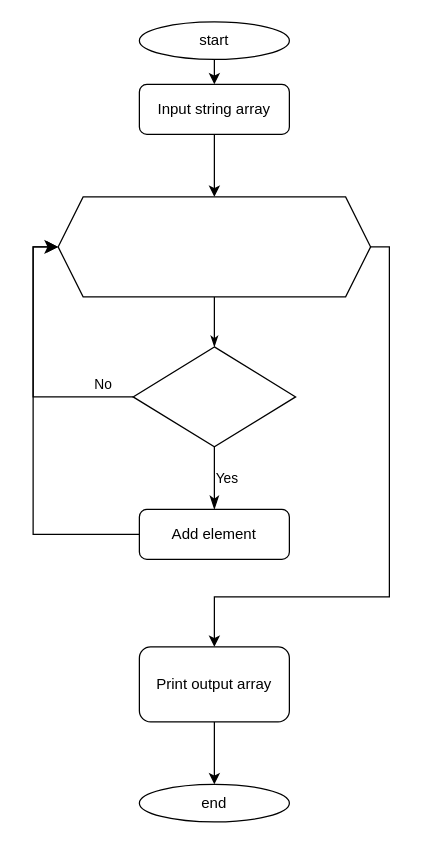
Image size: 421x844. Some labels were removed from this diagram. The shapes that lost their labels are listed below. From the top down, each one's centre as x and y in pixels, then its label:
pixel 214 246: for int i = 0; i < inputArray.Length; i++
pixel 214 396: element.Length <= 3
